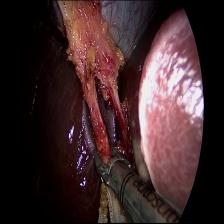Clipper: (92, 125, 133, 213)
